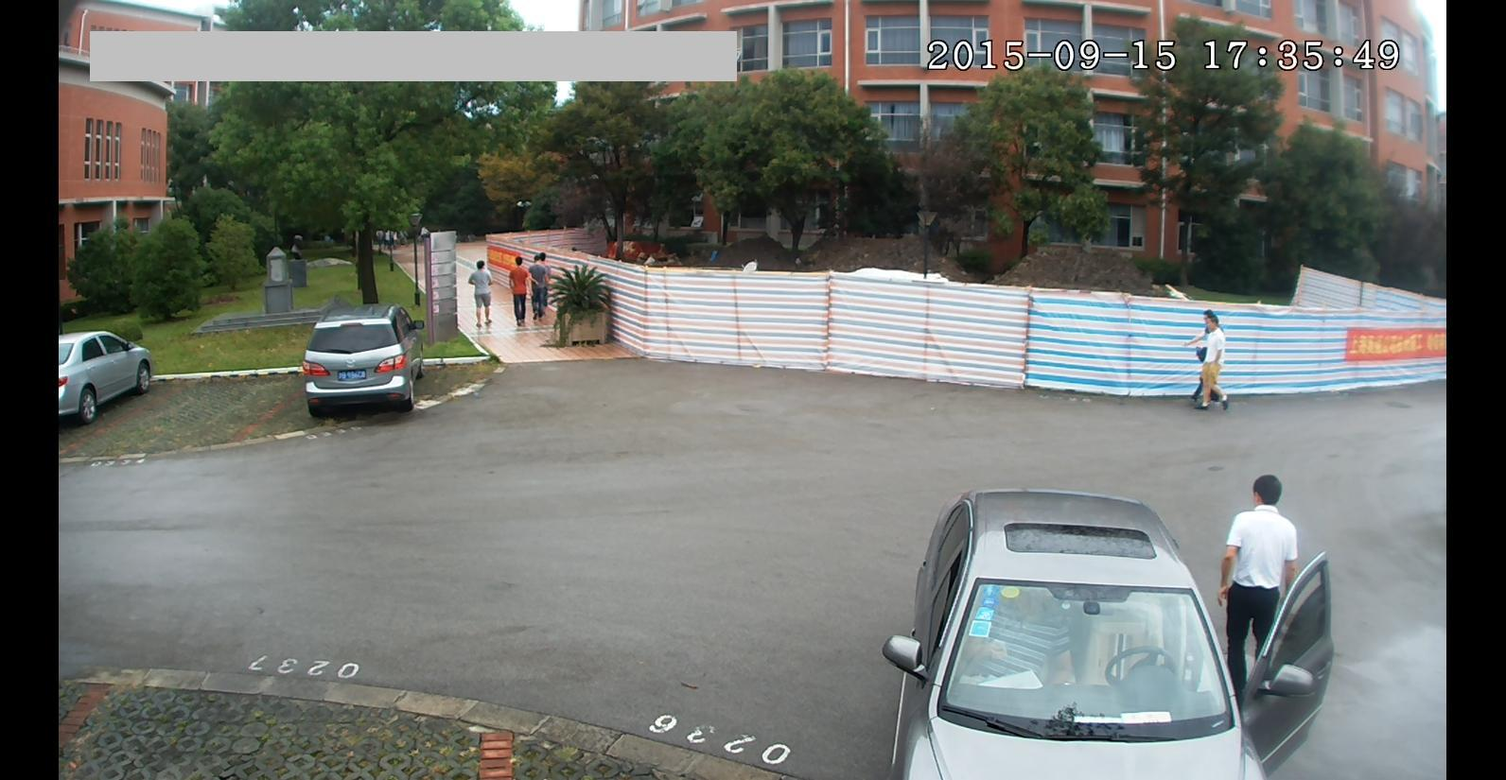person: (1215, 470, 1303, 681), (1188, 307, 1234, 419), (465, 259, 496, 335), (507, 255, 530, 337), (532, 251, 554, 321)
